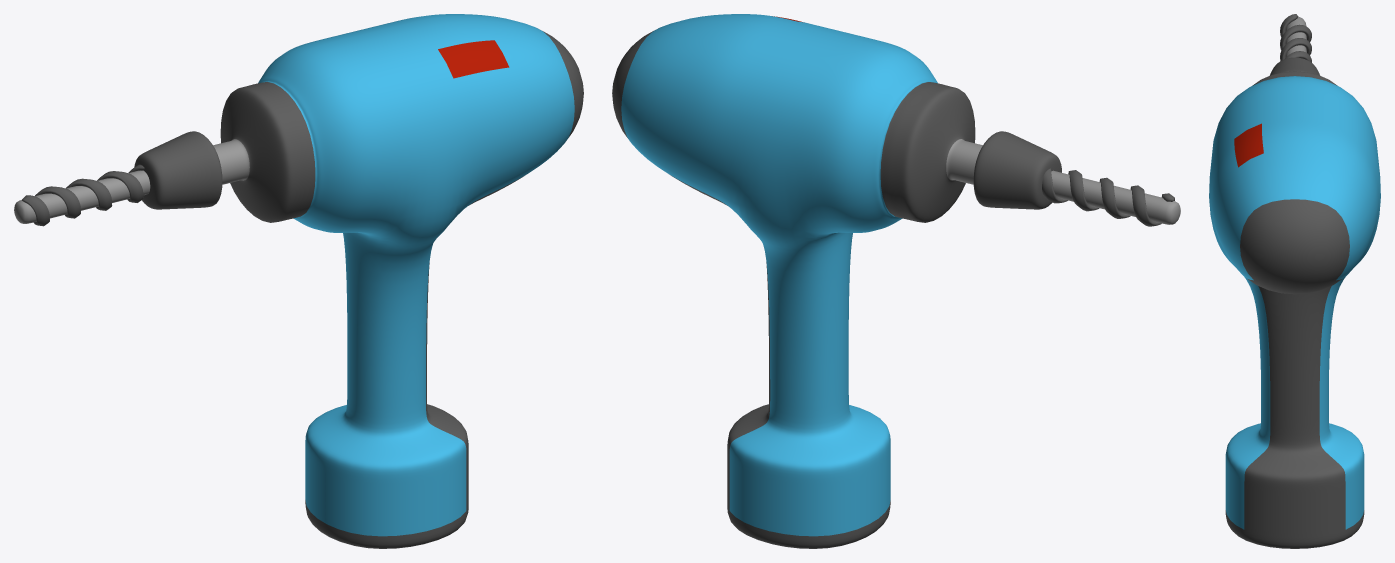
The model's file is DrillV2.fbx.
3 renders of one model, left to right at view 1: azimuth 30°, elevation 25°; view 2: azimuth 150°, elevation 25°; view 3: azimuth 270°, elevation 25°, orthographic. The views are drawn at different scales.
Parts seen in each view (by area): view 1: taladro, taladro_boca; view 2: taladro, taladro_boca; view 3: taladro, taladro_boca.
Part boxes in pixels (x1,y1,x2,y2): taladro: (134, 14, 583, 548); taladro_boca: (14, 164, 150, 226); taladro: (612, 14, 1061, 548); taladro_boca: (1042, 168, 1180, 226); taladro: (1209, 57, 1380, 548); taladro_boca: (1280, 14, 1311, 62).
Bounding box in the file's own units: 23.81 × 19.81 × 7.34.
